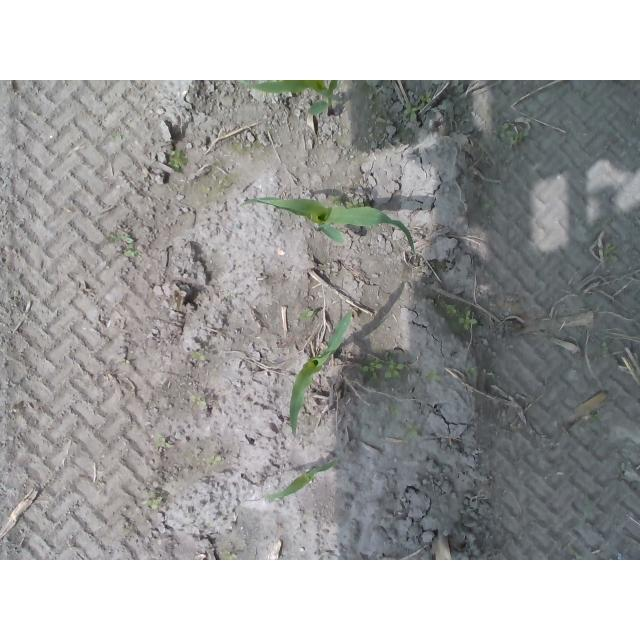Maize: (239, 195, 418, 255), (289, 309, 353, 435), (239, 80, 339, 117), (261, 458, 335, 502)
Weeds: (440, 301, 477, 332), (360, 359, 404, 381), (117, 228, 139, 259), (165, 149, 185, 171), (603, 240, 618, 264), (405, 101, 420, 122), (508, 129, 528, 144), (142, 498, 162, 511), (300, 307, 313, 322), (418, 90, 432, 103), (423, 371, 441, 381), (209, 454, 224, 465), (407, 426, 420, 438), (221, 551, 237, 560), (189, 352, 205, 361), (191, 394, 202, 404), (466, 365, 476, 375)
